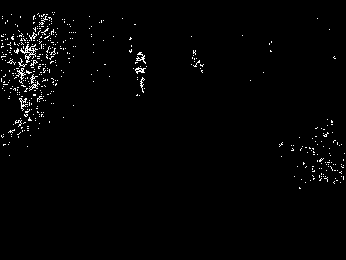person: (135, 50, 151, 93)
